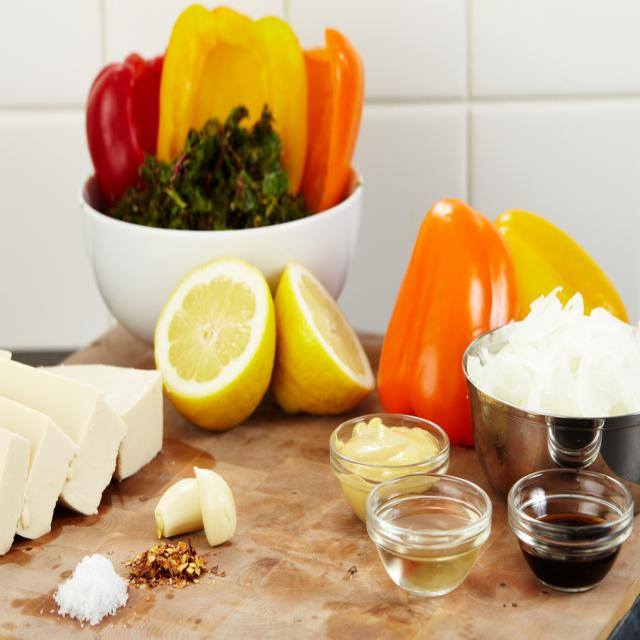Lemon: (153, 259, 278, 431), (273, 265, 373, 415)
